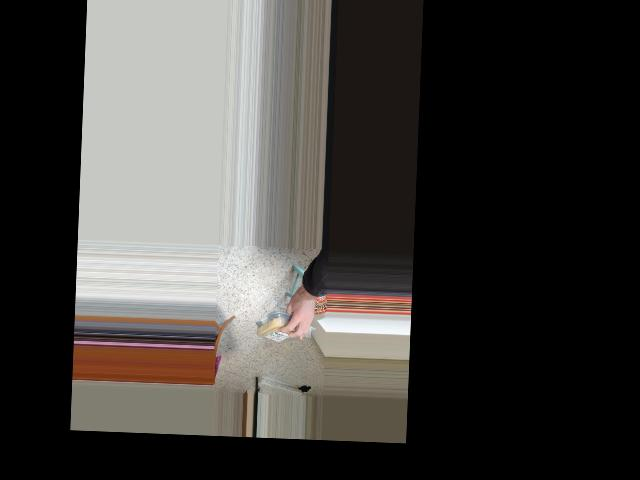cheese: (255, 314, 308, 342)
